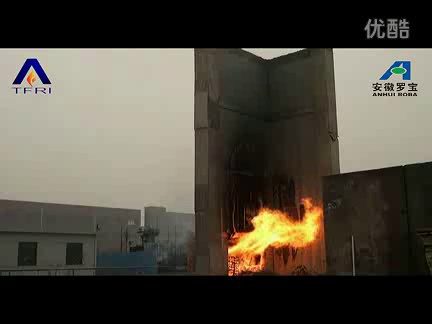fire: (222, 193, 329, 274)
